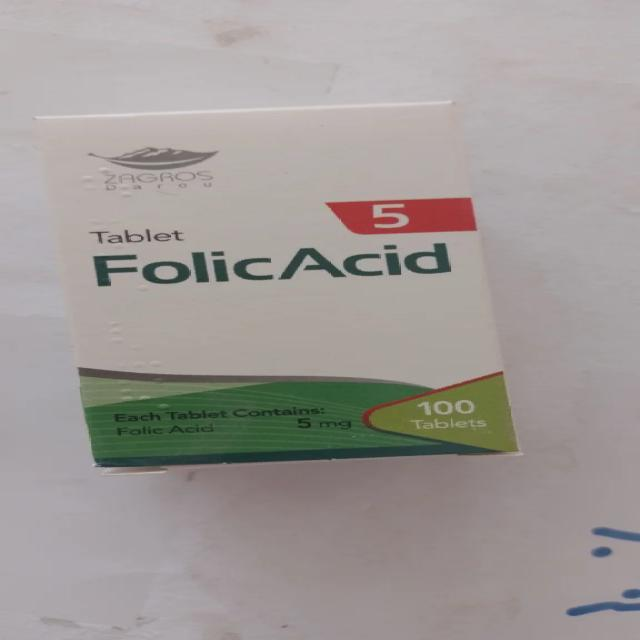drug-name: (81, 242, 463, 288)
